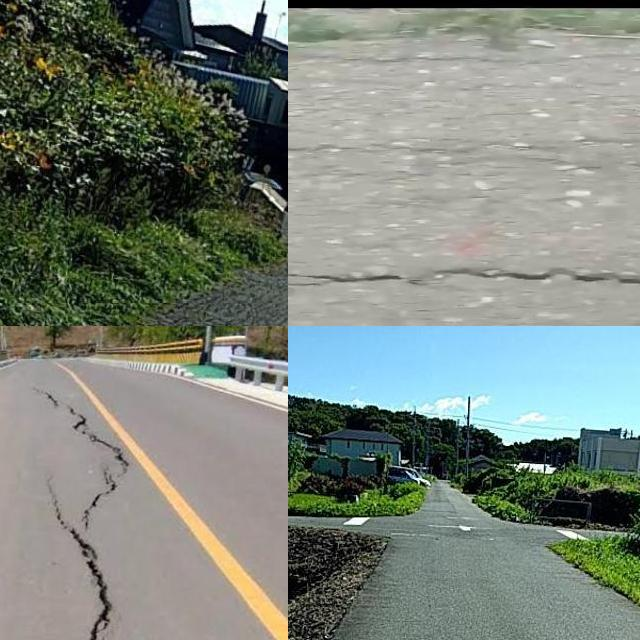Melintang: (288, 255, 640, 308)
Memanjang: (32, 388, 137, 640)
